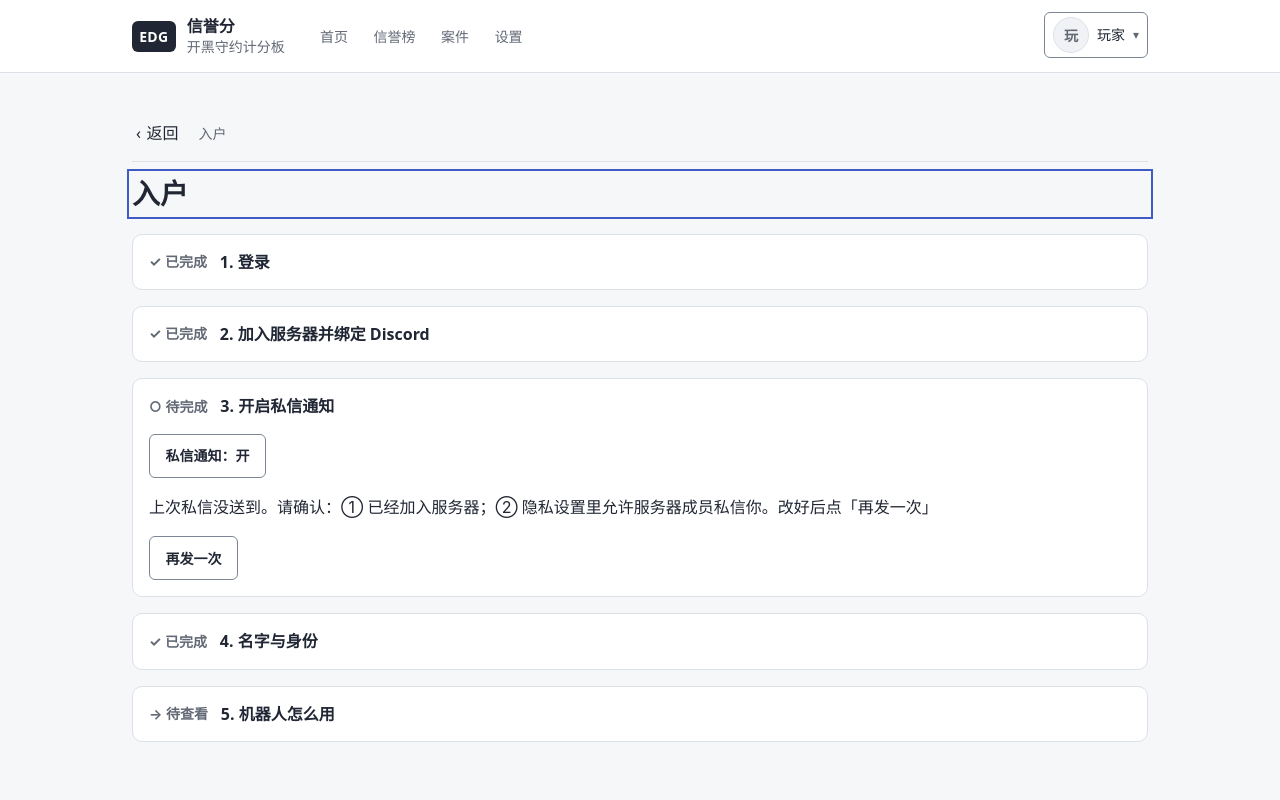
welcome page › explains actual DM delivery status, supports resend and never polls: dm_ok=false
This screenshot has width=1280, height=800.
expect the heading "入户" is shown: met, box [132,174,188,212]
What coordinates should you click on to do the following:
click the button "再发一次"
I would click on:
 (193, 558)
Its box is [149,536,238,580].
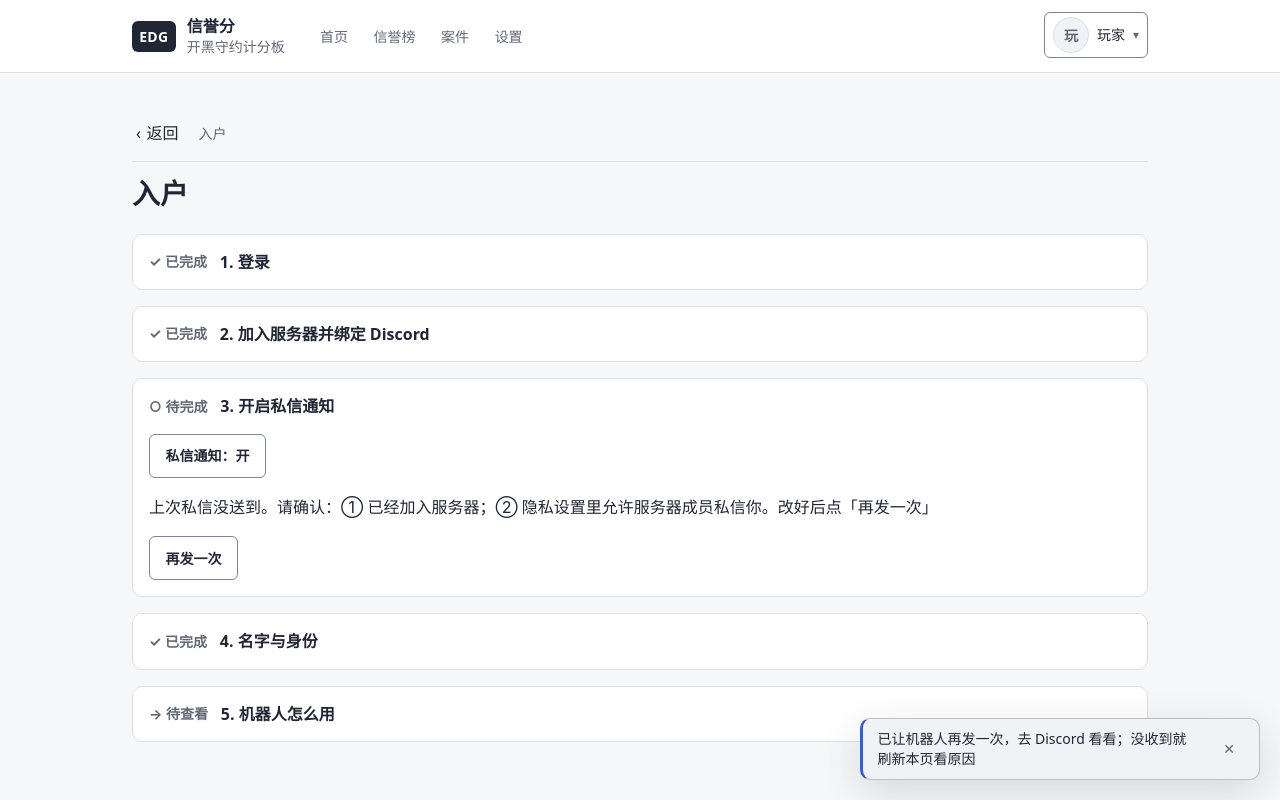
expect the text "已让机器人再发一次，去 Discord 看看；没收到就刷新本页看原因" is shown: met, box [877,729,1197,769]
